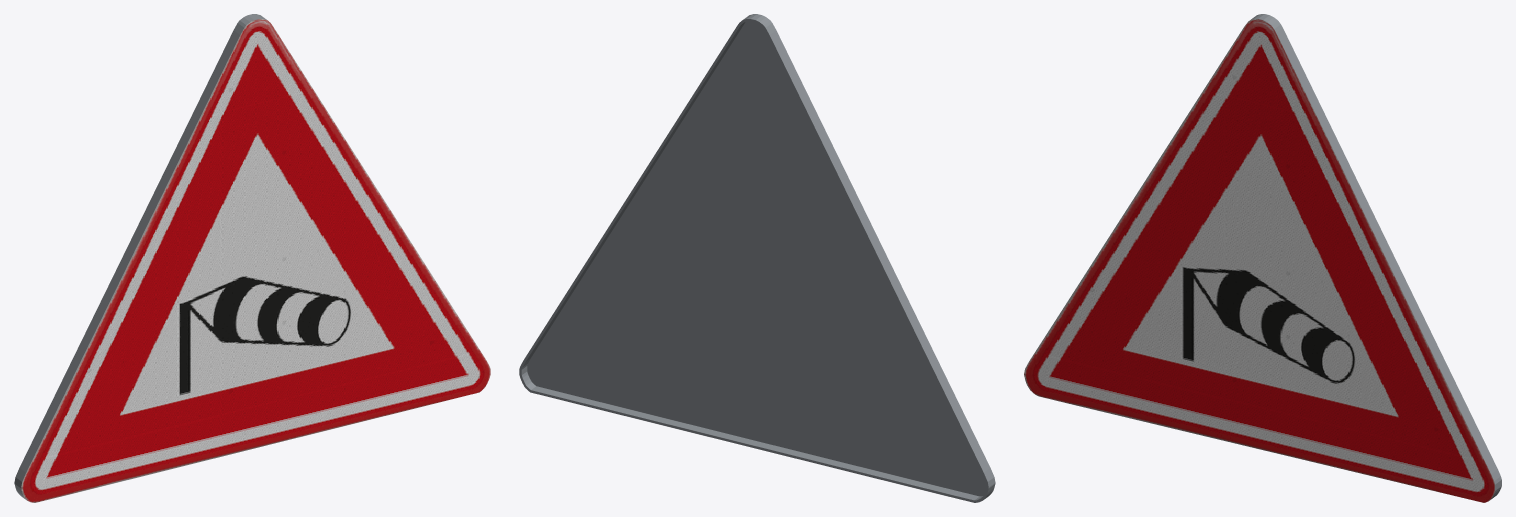
3 views of the same model, side by side, from view 1: azimuth 30°, elevation 25°; view 2: azimuth 150°, elevation 25°; view 3: azimuth 330°, elevation 25° (orthographic).
Visible parts, largest first — view 1: cat_2328ea6f5a6e7c70; view 2: cat_2328ea6f5a6e7c70; view 3: cat_2328ea6f5a6e7c70.
Boxes of the visible parts, x1,y1,x2,y2 form: cat_2328ea6f5a6e7c70: (14, 14, 490, 502); cat_2328ea6f5a6e7c70: (519, 14, 995, 502); cat_2328ea6f5a6e7c70: (1024, 14, 1501, 502).
Bounding box in the file's own units: 0.6 × 0.015 × 0.5245.
2 materials, 1 textured.
